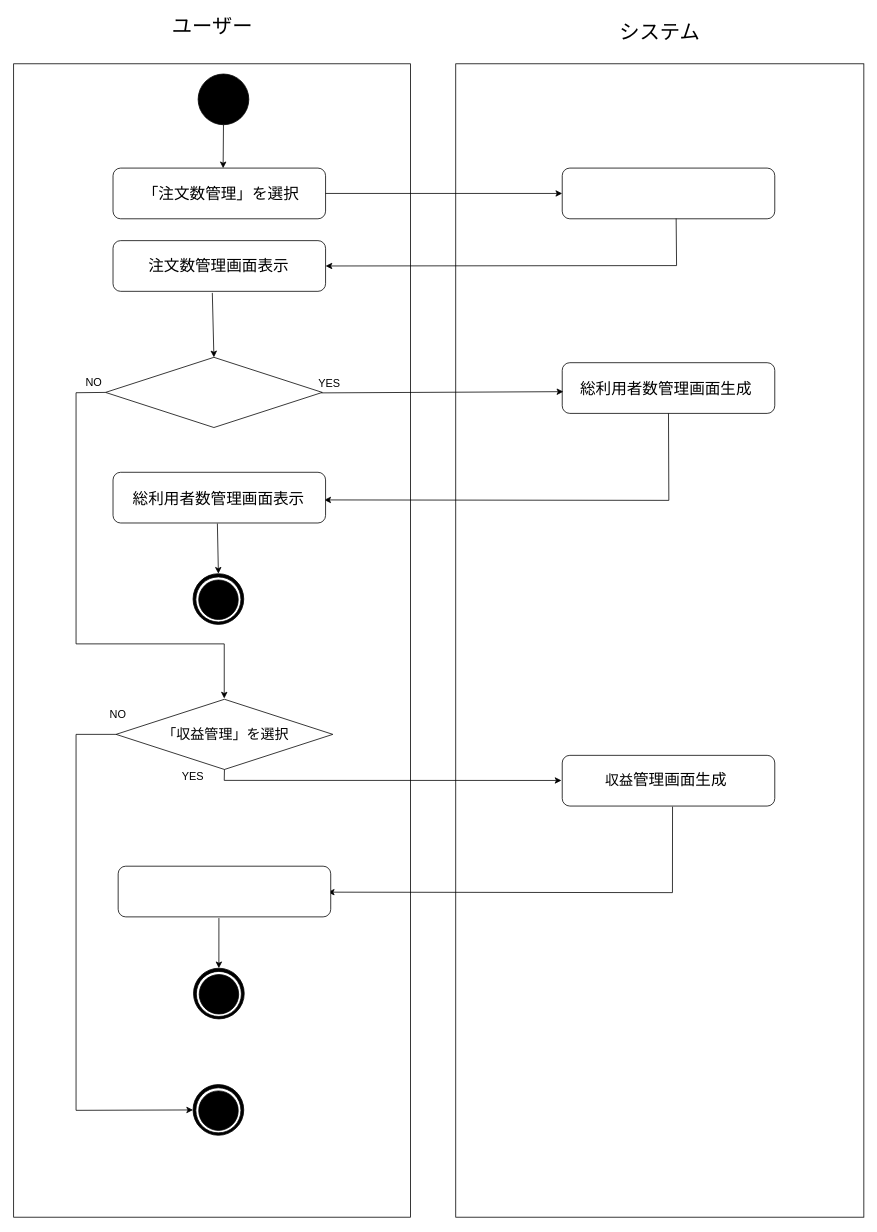
Image size: 877x1232. Some labels were removed from this diagram. The centre of each missing label's shape, as x and y in pixels:
「総利用者数」を選択: the point at 213,392
収益 管理画面表示: the point at 224,891
注文数管理画面生成: the point at 668,193
